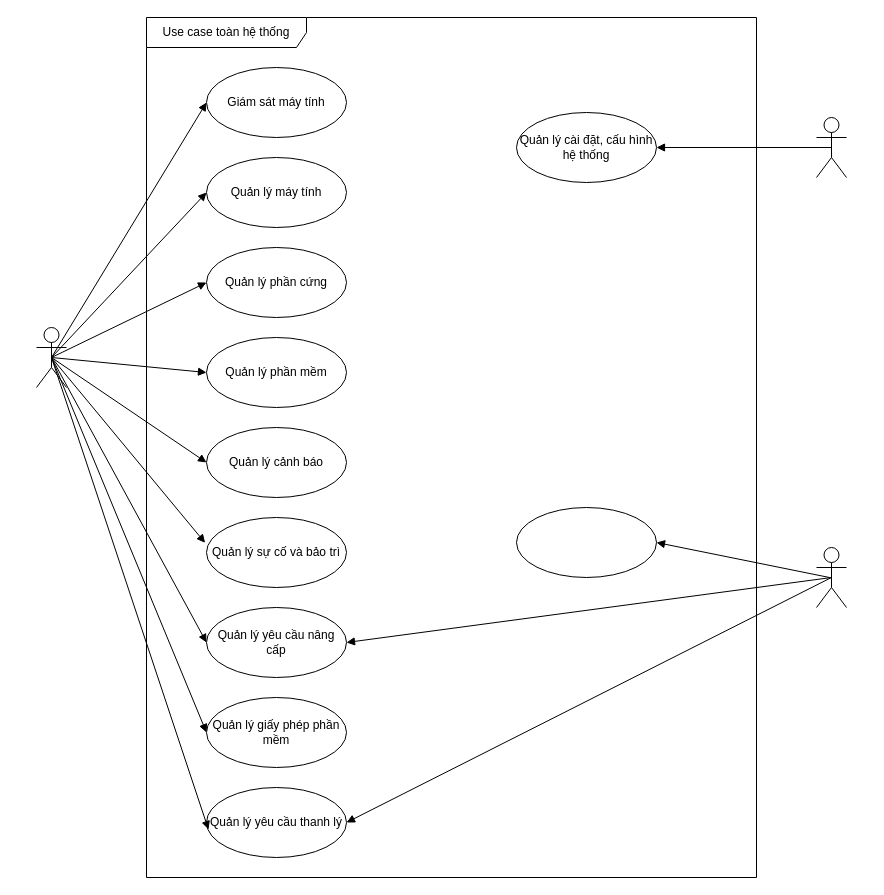
This 884x895 diagram has some shape labels left out. Here are the shapes that lost their labels. From the top down, the centre of each, then its label:
the point at 831,147: Quản trị viên hệ thống
the point at 51,357: Nhân viên IT
the point at 586,542: Quản lý đơn đặt hàng
the point at 831,577: Quản lý
